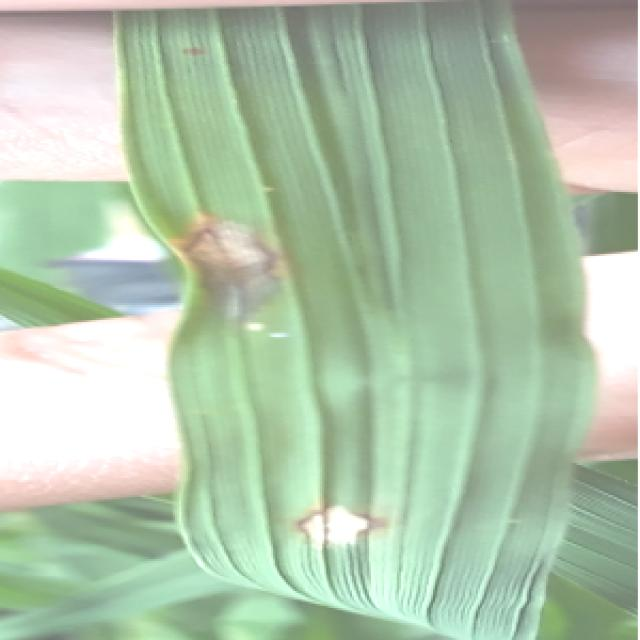Brown_Spot: (184, 214, 290, 305), (283, 486, 383, 564)
